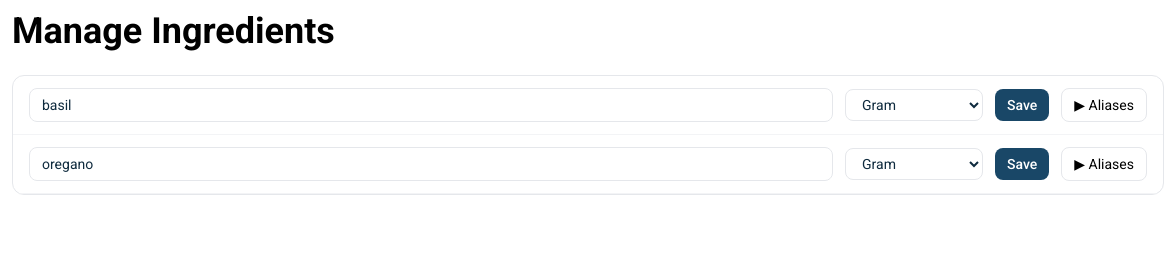
ManageIngredientsPage › aliases section › shows loading text in the alias section while loading
Click the button with aria-label "expand aliases" at (1104, 105), box [1061,88,1147,122]
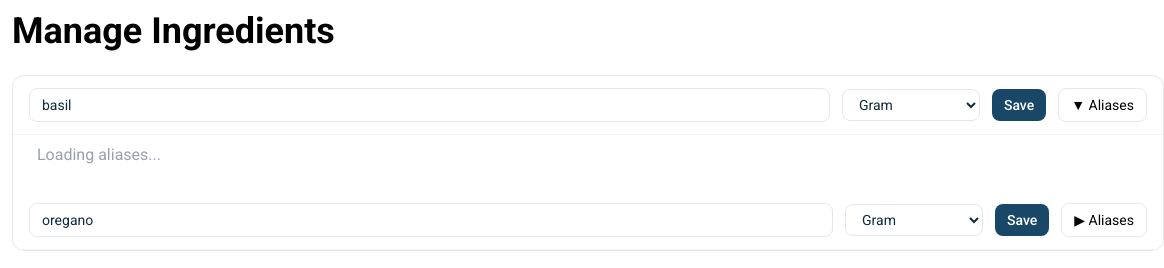
Now the text "Loading aliases..." is shown, box [37,145,161,164]
